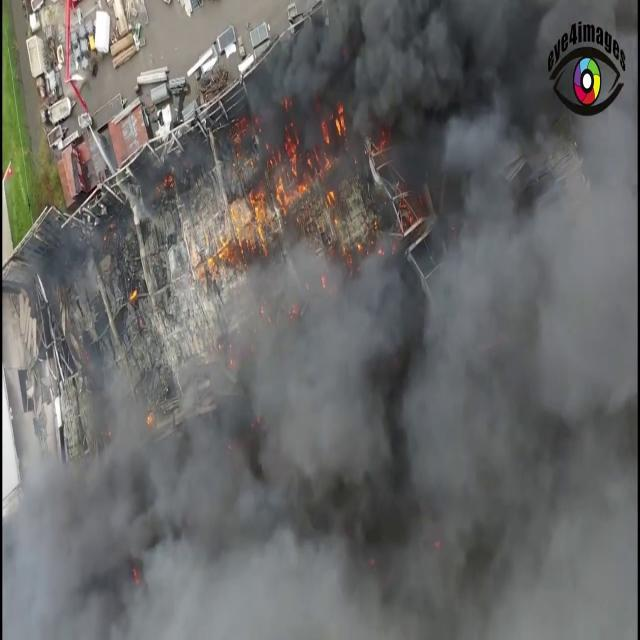Smoke: (22, 202, 617, 640), (248, 0, 640, 196)
